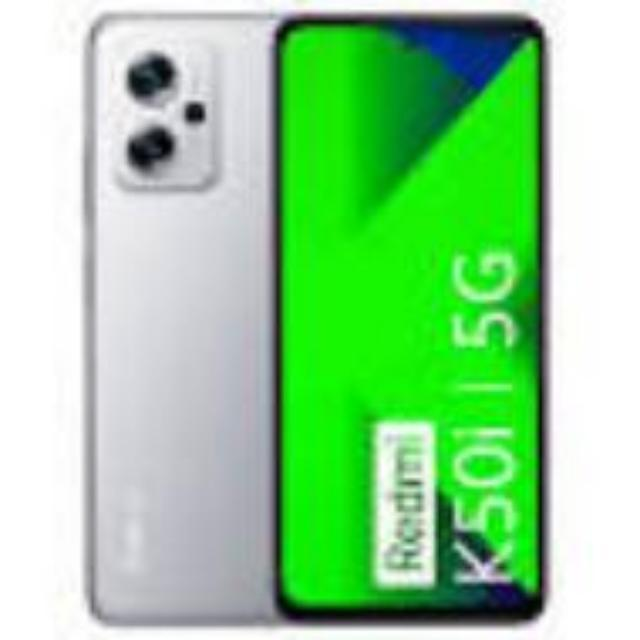phone: (260, 3, 561, 623), (85, 22, 280, 613)
